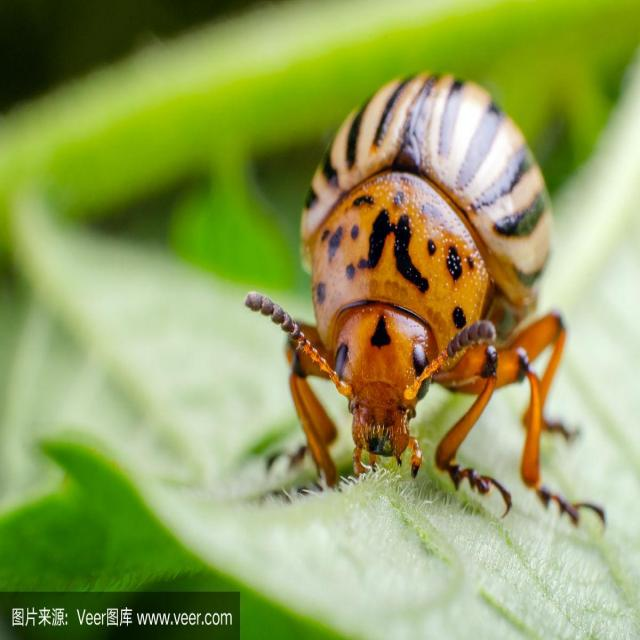ShuCaiHuaBanChong-Grown-: (281, 61, 575, 486)
